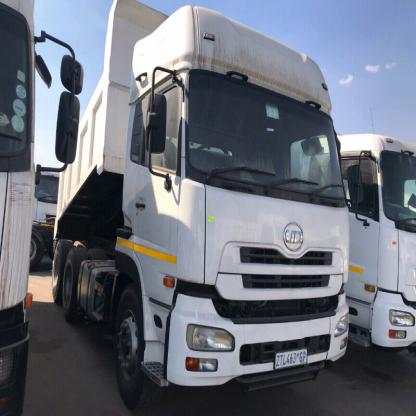dump_truck: (73, 0, 349, 381)
